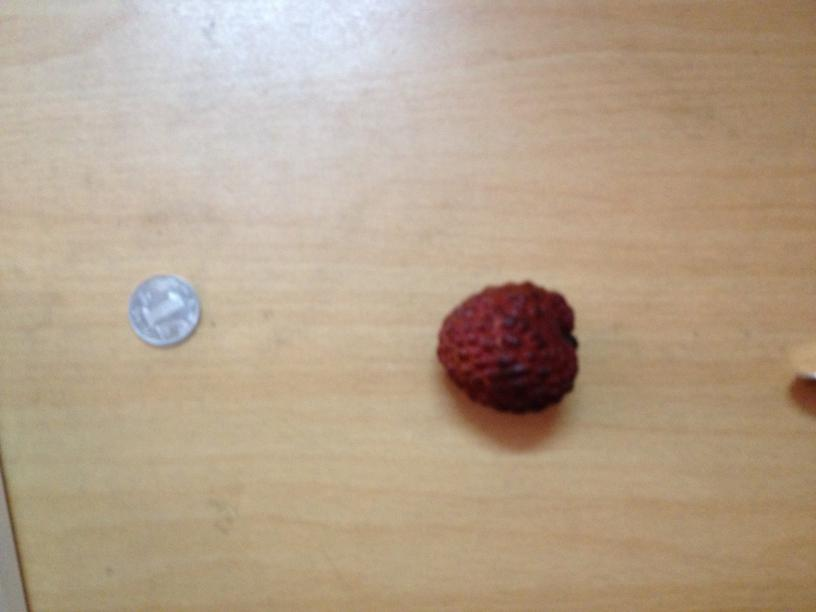coin: (126, 270, 199, 346)
litchi: (432, 278, 578, 412)
